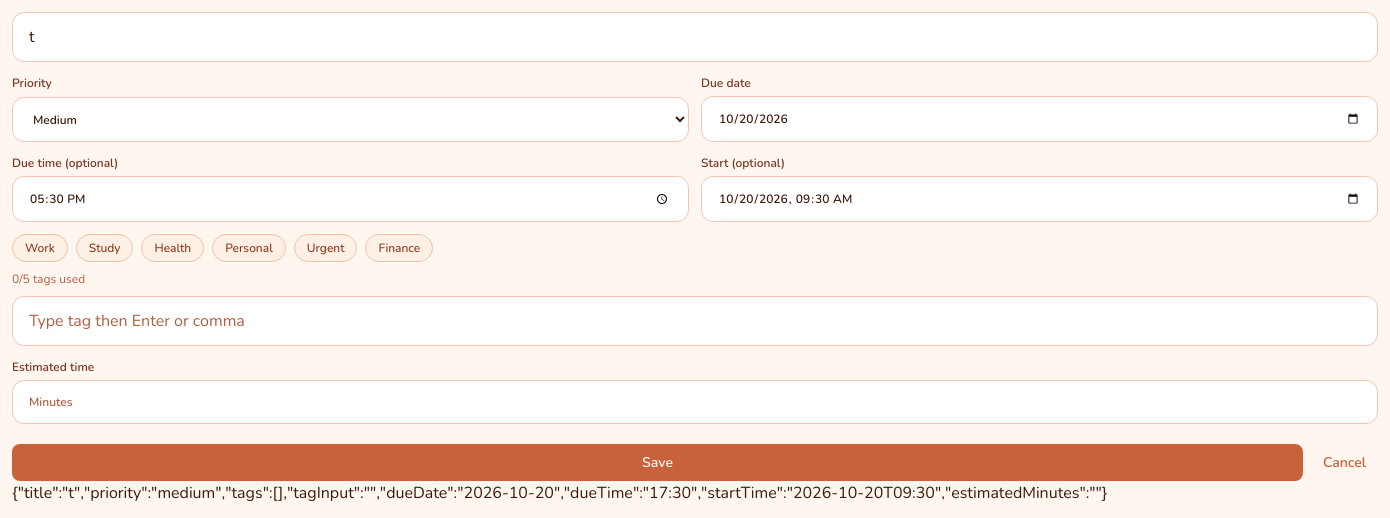
Scenario: TaskEditForm › clearing the due date clears the due time with it, and leaves the start alone
Clear the date field labelled "Due date": point(1040, 119) x1=701 y1=96 x2=1378 y2=142
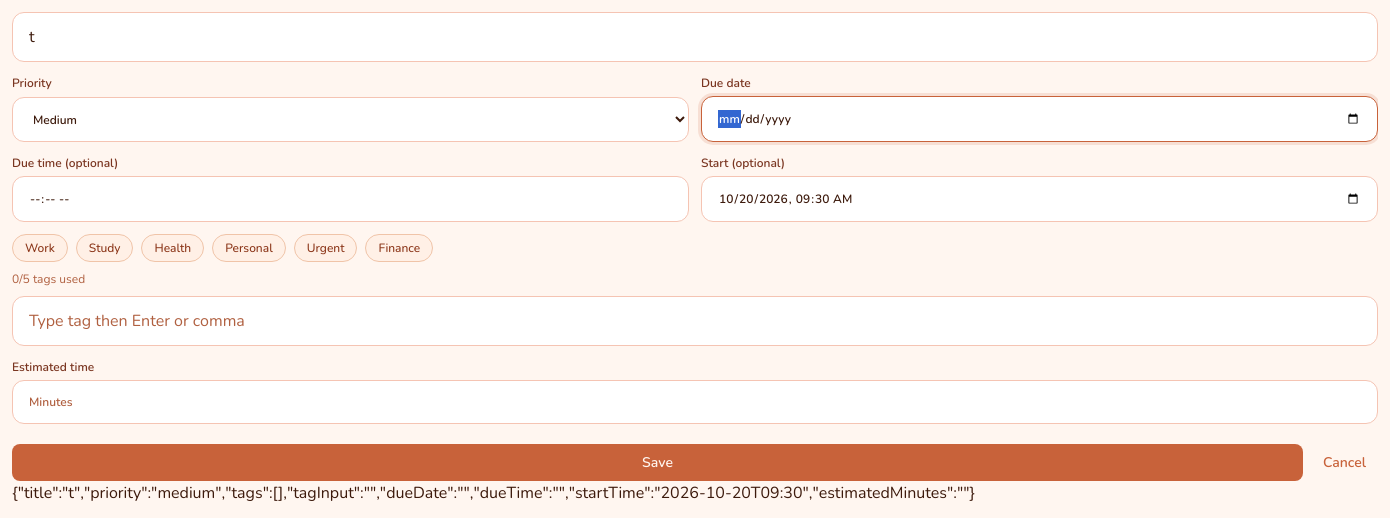
Result: the time field labelled "Due time" is disabled at x1=12 y1=176 x2=689 y2=222
